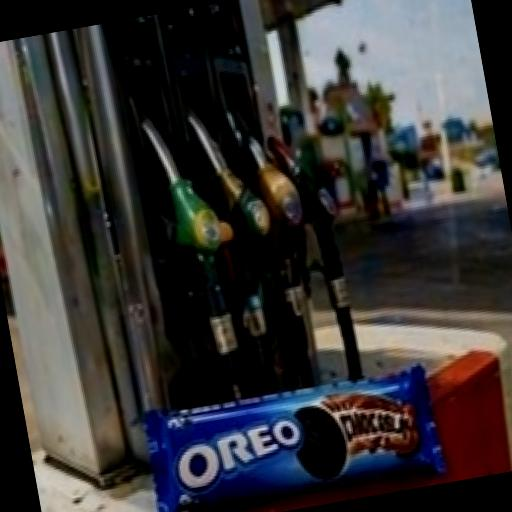oreo: (104, 317, 481, 512)
